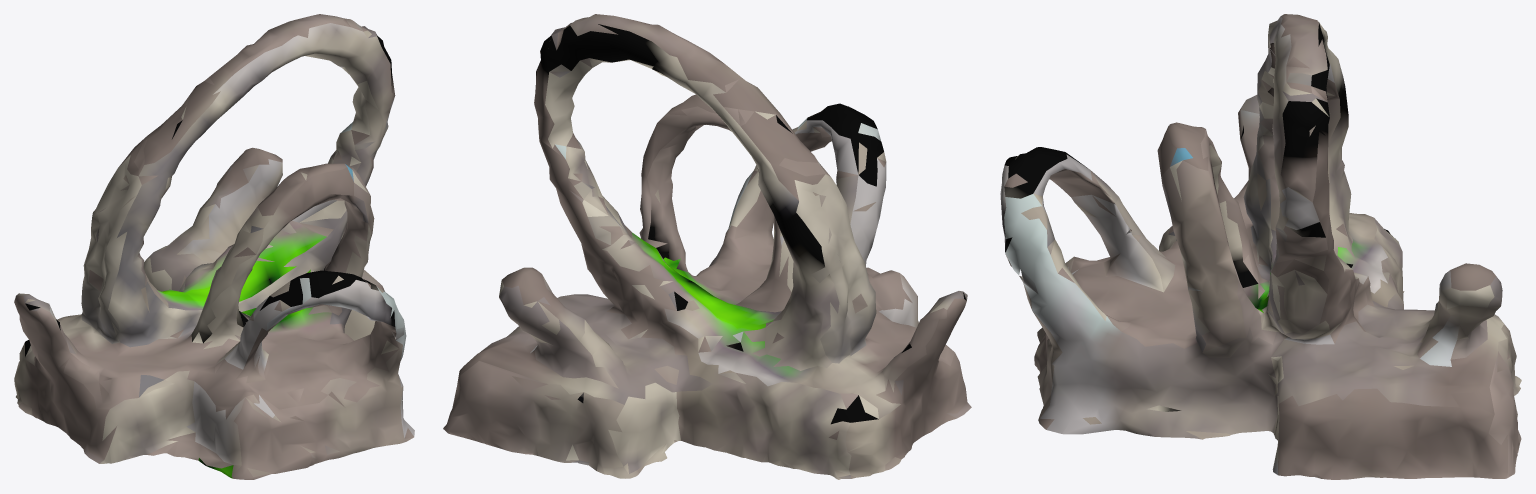
File: Structure-10.fbx
3 renders of one model, left to right at view 1: azimuth 30°, elevation 25°; view 2: azimuth 150°, elevation 25°; view 3: azimuth 270°, elevation 25°, orthographic. The views are drawn at different scales.
Visible parts, largest first — view 1: Structure-10; view 2: Structure-10; view 3: Structure-10.
Boxes of the visible parts, x1=… form: Structure-10: x1=14, y1=14, x2=414, y2=479; Structure-10: x1=443, y1=14, x2=971, y2=479; Structure-10: x1=1000, y1=14, x2=1521, y2=479.
Size of the model in its own units: 2.84 by 2.38 by 2.82.
